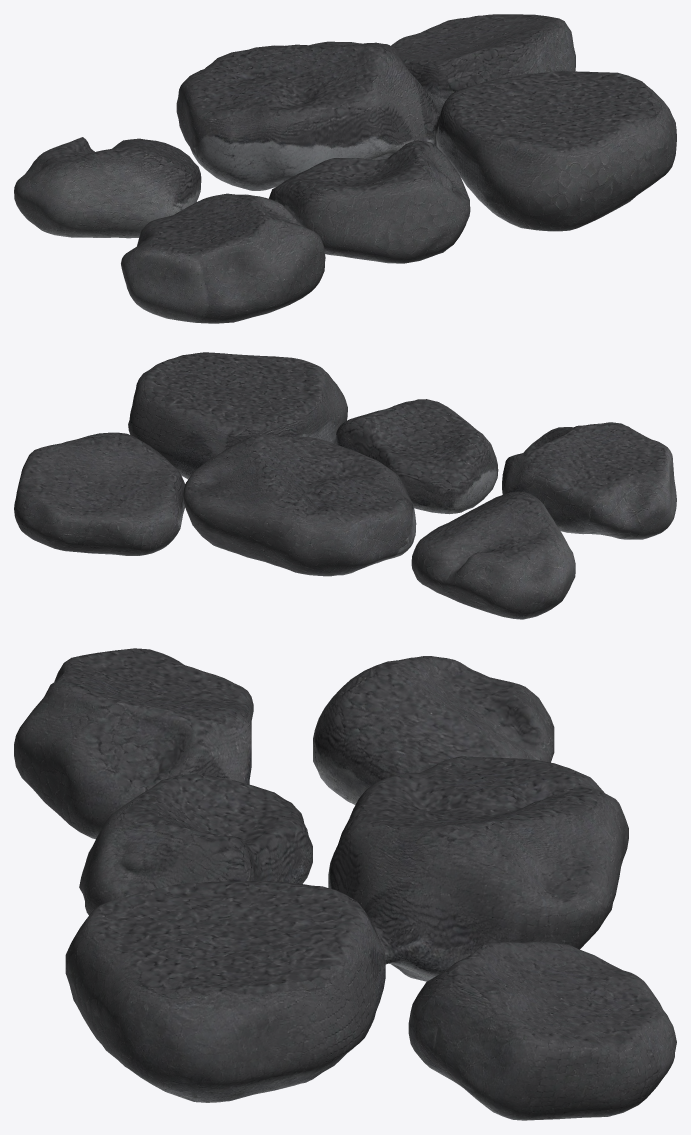
File: small_rocks.glb
The picture shows the model from 3 angles, top to bottom: view 1: azimuth 30°, elevation 25°; view 2: azimuth 150°, elevation 25°; view 3: azimuth 270°, elevation 25°; orthographic projection. The views are drawn at different scales.
Size of the model in its own units: 1.91 by 0.364 by 1.35.
1 material, 1 textured.
